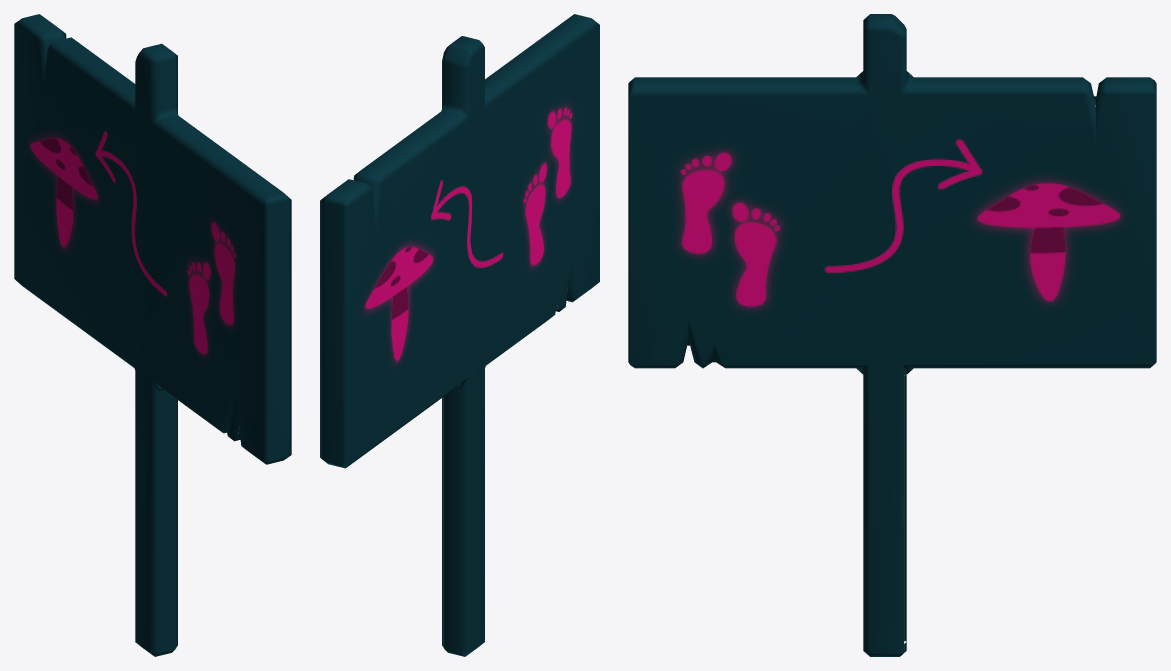
File: S_Fuß.fbx
The picture shows the model from 3 angles, left to right: view 1: azimuth 30°, elevation 25°; view 2: azimuth 150°, elevation 25°; view 3: azimuth 270°, elevation 25°; orthographic projection. The views are drawn at different scales.
Visible parts, largest first — view 1: Cube; view 2: Cube; view 3: Cube.
Part boxes in pixels (x1=…): Cube: x1=14, y1=14, x2=291, y2=656; Cube: x1=320, y1=14, x2=599, y2=656; Cube: x1=628, y1=14, x2=1156, y2=656.
Bounding box in the file's own units: 4.72 × 94.89 × 71.66.
